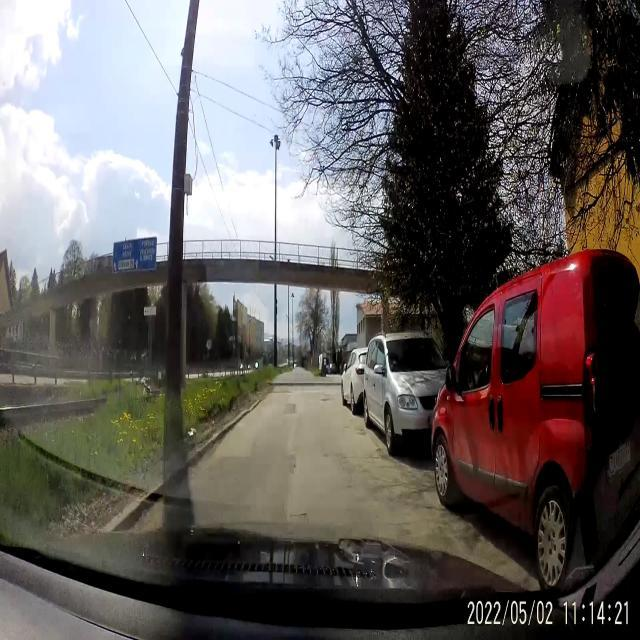Pothole: (318, 393, 334, 407)
